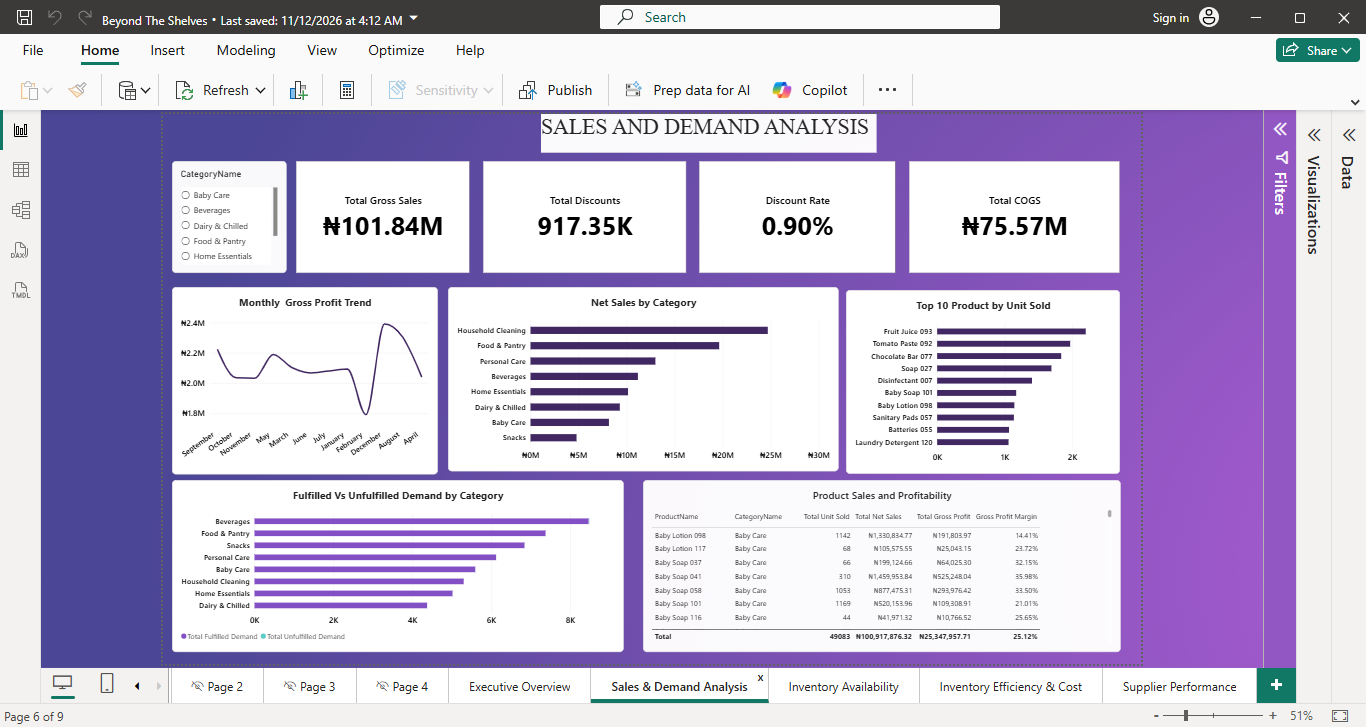

The page's visual inventory and layout, read from the dashboard file:
{"tool":"powerbi","page":{"name":"Sales &  Demand Analysis","canvas":[1920,1080],"ordinal":5},"visuals":[{"type":"cardVisual","fields":{"Data":["FactSales.Total Gross Sales"]},"box":[261.4,92.9,341.3,220.3],"z":0},{"type":"textbox","box":[743,0,658.8,75.6],"z":1000},{"type":"cardVisual","fields":{"Data":["FactSales.Total Discounts"]},"box":[628.6,92.9,399.6,220.3],"z":2000},{"type":"lineChart","title":"Monthly  Gross Profit Trend","fields":{"Category":["DimDate.MonthName"],"Y":["FactSales.Total Gross Profit"]},"box":[17.6,340.2,521.6,367.9],"z":3000},{"type":"listSlicer","fields":{"Values":["DimCategory.CategoryName"]},"box":[17.3,92.9,224.6,220.3],"z":4000},{"type":"cardVisual","fields":{"Data":["FactSales.Discount Rate"]},"box":[1051.9,92.9,386.6,220.3],"z":5000},{"type":"cardVisual","fields":{"Data":["FactSales.Total COGS"]},"box":[1464.5,92.9,414.7,220.3],"z":6000},{"type":"clusteredBarChart","title":" Net Sales by Category","fields":{"Category":["DimCategory.CategoryName"],"Y":["FactSales.Total Net Sales"]},"box":[559.4,340.2,767,362],"z":7000},{"type":"clusteredBarChart","title":"Top 10 Product by Unit Sold","fields":{"Category":["DimProduct.ProductName"],"Y":["FactSales.Total Unit Sold"]},"box":[1341.4,345.6,537.8,360.7],"z":8000},{"type":"barChart","title":"Fulfilled Vs Unfulfilled Demand by Category","fields":{"Category":["DimCategory.CategoryName"],"Y":["FactDemand.Total Fulfilled Demand","FactDemand.Total Unfulfilled Demand"]},"box":[17,718.6,886.5,338],"z":9000},{"type":"tableEx","title":"Product Sales and Profitability","fields":{"Values":["DimProduct.ProductName","DimCategory.CategoryName","FactSales.Total Unit Sold","FactSales.Total Net Sales","FactSales.Total Gross Profit","FactSales.Gross Profit Margin"]},"box":[941.8,718.6,937.6,338],"z":10000}]}

Visuals, with their boxes on the page's 1920x1080 design canvas (x1, y1, x2, y2). These are canvas units, not pixel positions in the 1366x727 screenshot, which may show the page scaled, cropped or inside an application window:
cardVisual - FactSales.Total Gross Sales: 261/93/603/313
textbox: 743/0/1402/76
cardVisual - FactSales.Total Discounts: 629/93/1028/313
"Monthly  Gross Profit Trend" lineChart: 18/340/539/708
listSlicer - DimCategory.CategoryName: 17/93/242/313
cardVisual - FactSales.Discount Rate: 1052/93/1438/313
cardVisual - FactSales.Total COGS: 1464/93/1879/313
" Net Sales by Category" clusteredBarChart: 559/340/1326/702
"Top 10 Product by Unit Sold" clusteredBarChart: 1341/346/1879/706
"Fulfilled Vs Unfulfilled Demand by Category" barChart: 17/719/904/1057
"Product Sales and Profitability" tableEx: 942/719/1879/1057
